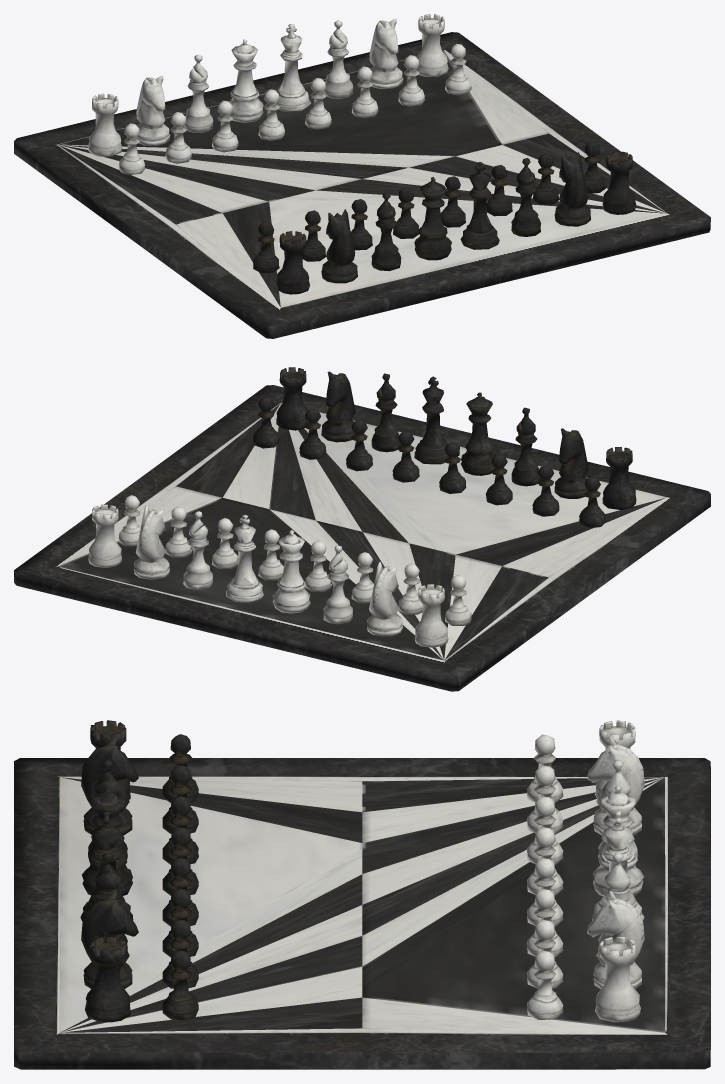
The model's file is ChessSet.fbx.
3 renders of one model, top to bottom at view 1: azimuth 30°, elevation 25°; view 2: azimuth 150°, elevation 25°; view 3: azimuth 270°, elevation 25°, orthographic. The views are drawn at different scales.
Visible parts, largest first — view 1: ChessSet; view 2: ChessSet; view 3: ChessSet.
Boxes of the visible parts, box(x1,y1,x2,y2) form: ChessSet: box(14, 14, 710, 338); ChessSet: box(14, 367, 710, 691); ChessSet: box(14, 720, 710, 1069).
Size of the model in its own units: 0.5532 by 0.1122 by 0.5525.
3 materials, 3 textured.
